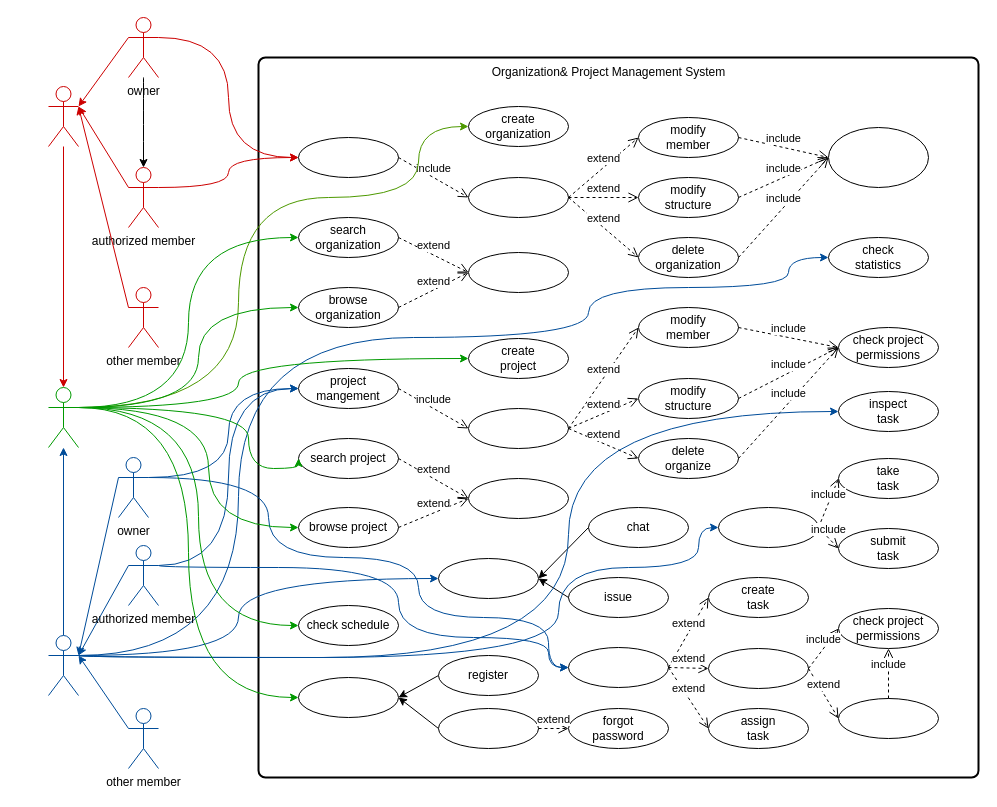
The diagram is 997 pixels wide and 807 high, and some of its shapes have lost their labels. The centre of each missing label's shape, as x and y in pixels:
"check organization permission" goes at [878,157].
"complete task" goes at [768,527].
"delete task" goes at [888,718].
"discuss" goes at [488,578].
"entrance" goes at [348,697].
"join organization" goes at [518,272].
"join project" goes at [518,498].
"login" goes at [488,728].
"modify organization" goes at [518,197].
"modify project" goes at [518,428].
"modify task" goes at [758,668].
"organization mangement" goes at [348,157].
"organize member" goes at [63,116].
"project member" goes at [63,665].
"task mangement" goes at [618,667].
"user" goes at [63,417].
